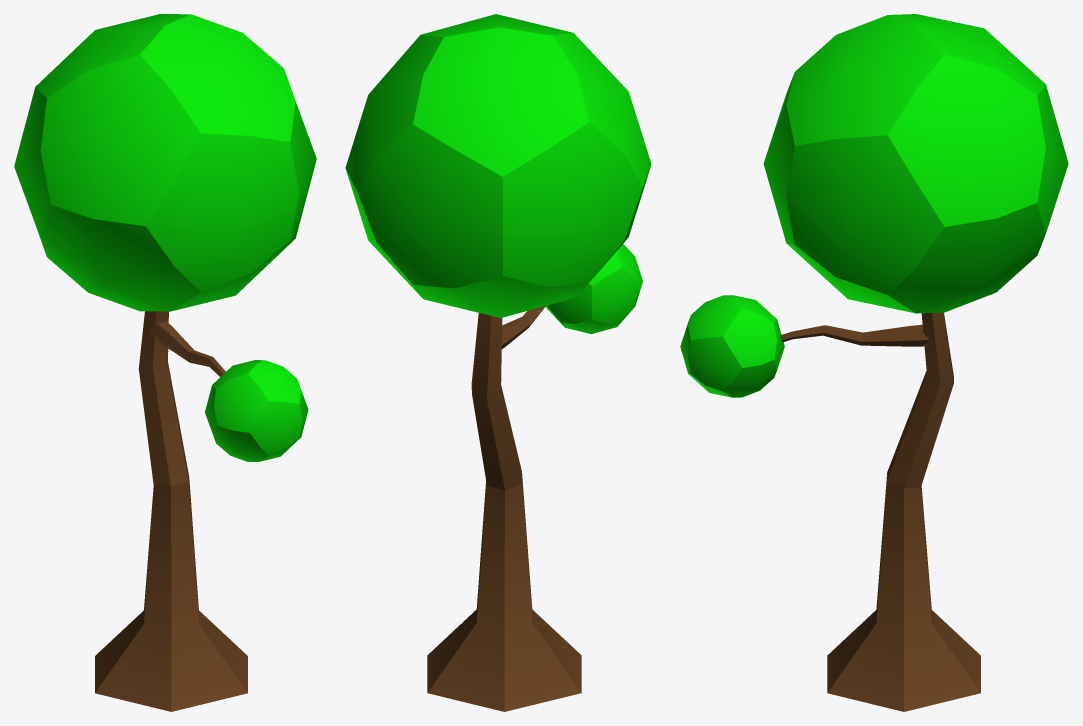
The model's file is Tree.fbx.
3 renders of one model, left to right at view 1: azimuth 30°, elevation 25°; view 2: azimuth 150°, elevation 25°; view 3: azimuth 270°, elevation 25°, orthographic.
Parts seen in each view (by area): view 1: pPlatonic1, pCylinder2, pPlatonic2, pCylinder1; view 2: pPlatonic1, pCylinder2, pPlatonic2, pCylinder1; view 3: pPlatonic1, pCylinder2, pPlatonic2, pCylinder1.
Part boxes in pixels (left/top/right/bottom): pPlatonic1: left=14, top=14, right=316, bottom=311; pCylinder2: left=95, top=311, right=247, bottom=711; pPlatonic2: left=205, top=360, right=308, bottom=461; pCylinder1: left=149, top=321, right=225, bottom=376; pPlatonic1: left=345, top=14, right=651, bottom=317; pCylinder2: left=427, top=313, right=581, bottom=711; pPlatonic2: left=545, top=244, right=642, bottom=333; pCylinder1: left=501, top=306, right=545, bottom=348; pPlatonic1: left=763, top=14, right=1068, bottom=313; pCylinder2: left=827, top=312, right=980, bottom=711; pPlatonic2: left=680, top=295, right=784, bottom=397; pCylinder1: left=781, top=324, right=929, bottom=346.
Bounding box in the file's own units: 9.37 × 22.39 × 12.15.
